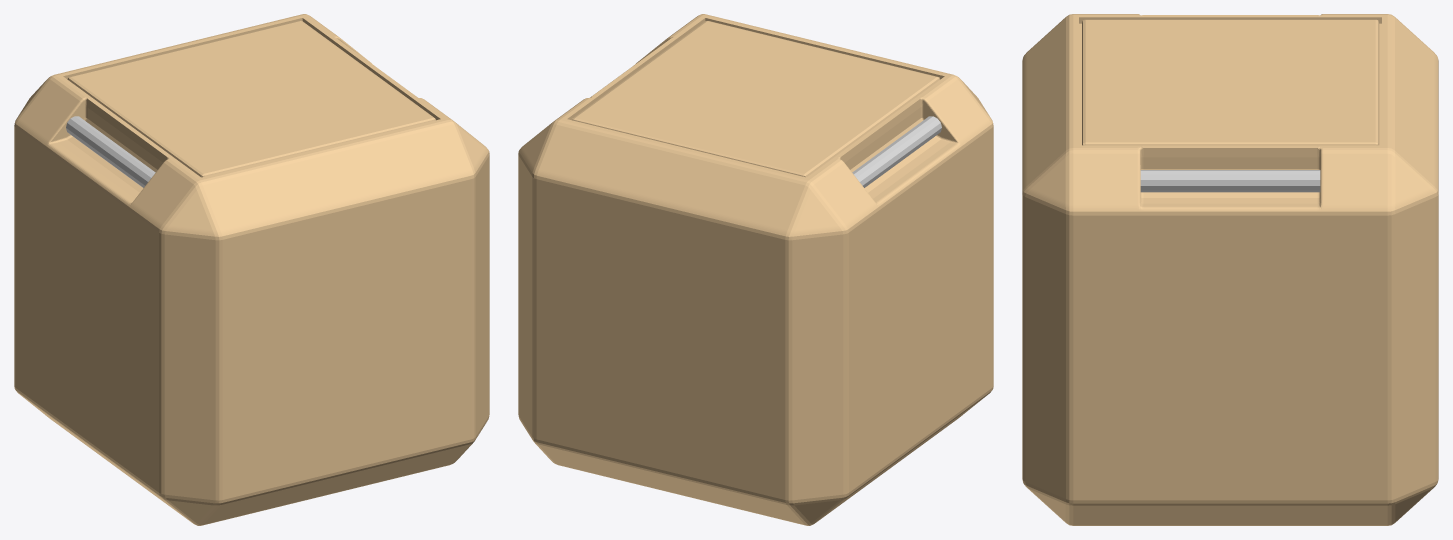
The model's file is crate_small 1.fbx.
3 renders of one model, left to right at view 1: azimuth 30°, elevation 25°; view 2: azimuth 150°, elevation 25°; view 3: azimuth 270°, elevation 25°, orthographic. The views are drawn at different scales.
Parts seen in each view (by area): view 1: crate_small; view 2: crate_small; view 3: crate_small.
Boxes of the visible parts, x1=… form: crate_small: x1=14, y1=14, x2=489, y2=525; crate_small: x1=518, y1=14, x2=993, y2=525; crate_small: x1=1022, y1=14, x2=1438, y2=525.
Size of the model in its own units: 100 by 100 by 100.
